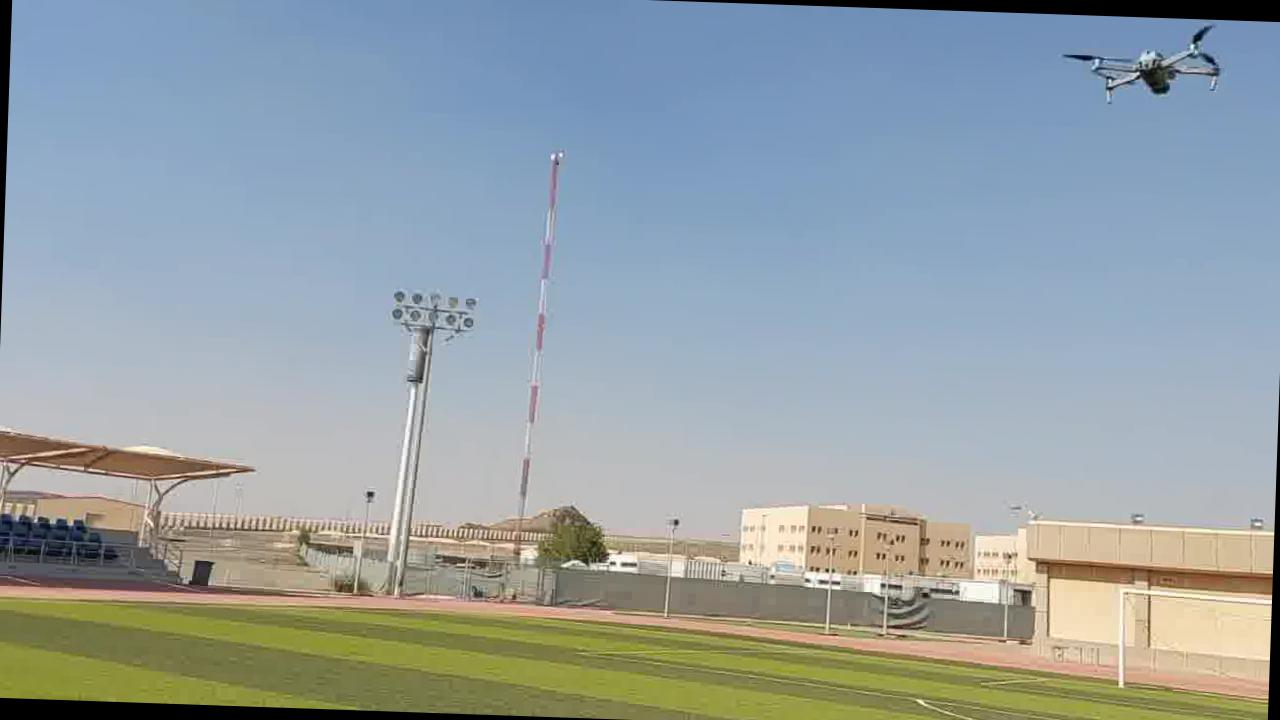drone: (1053, 15, 1228, 110)
